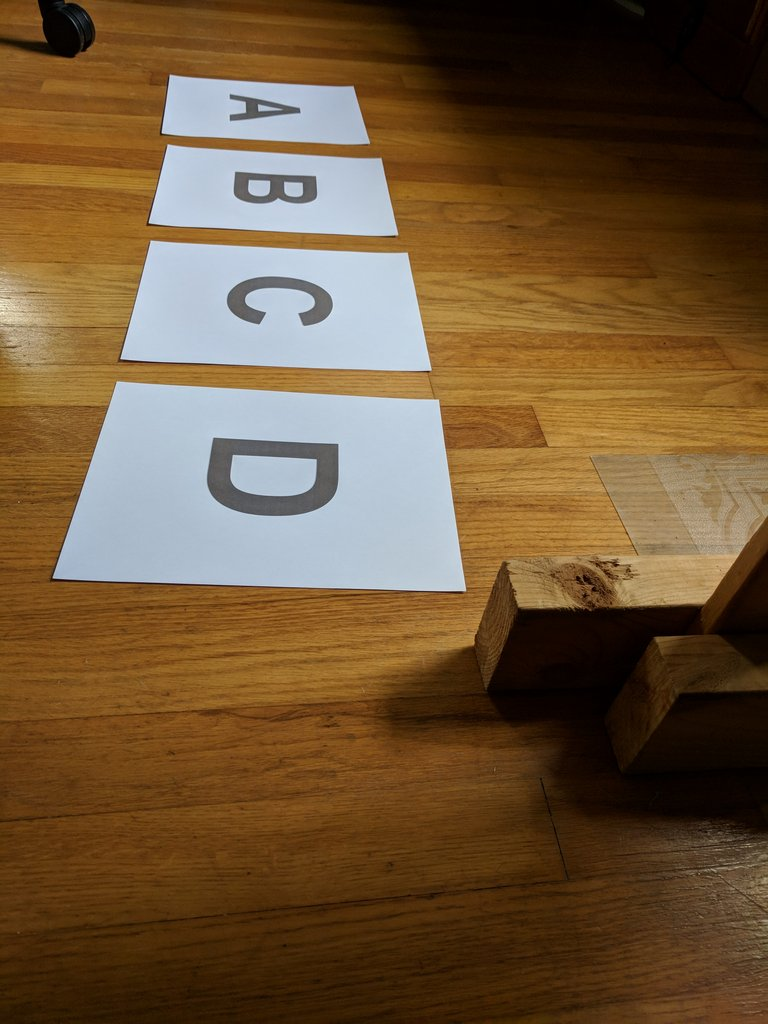home: (226, 274, 335, 326)
